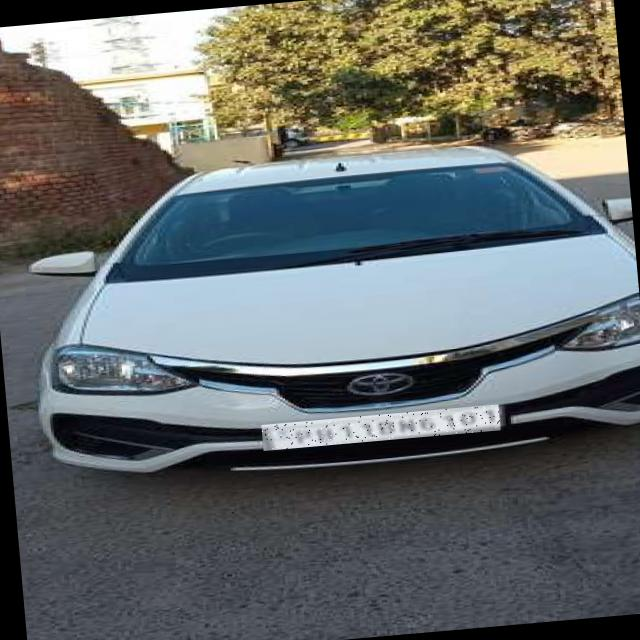Plate: (262, 405, 501, 452)
